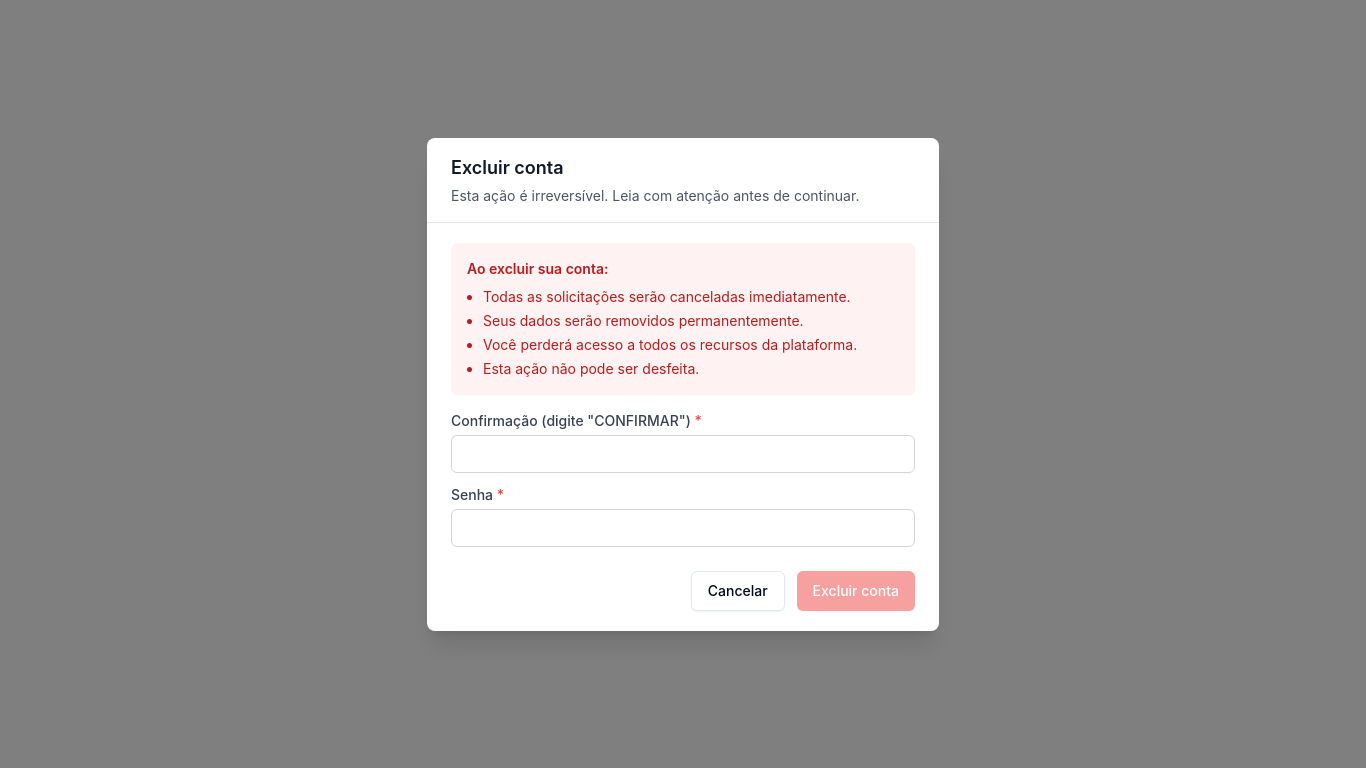
it: DeleteAccountModal › deve exibir erro quando senha não é fornecida (conta não OAuth)
This screenshot has width=1366, height=768.
Type "CONFIRMAR" into the field labelled "Confirmação (digite \"CONFIRMAR\") *" at (683, 454), box [451,434,915,472]
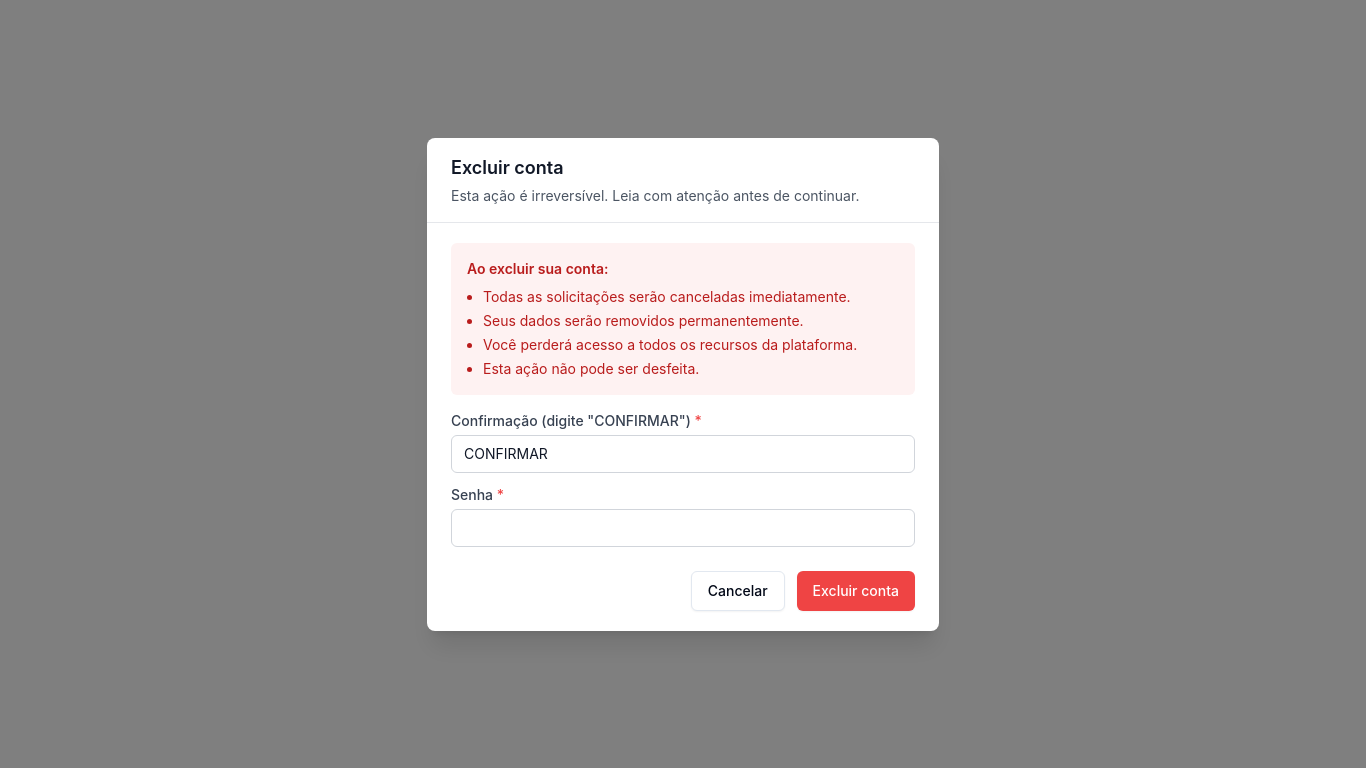
Submit the form named "Confirmação", box [427,222,939,630]
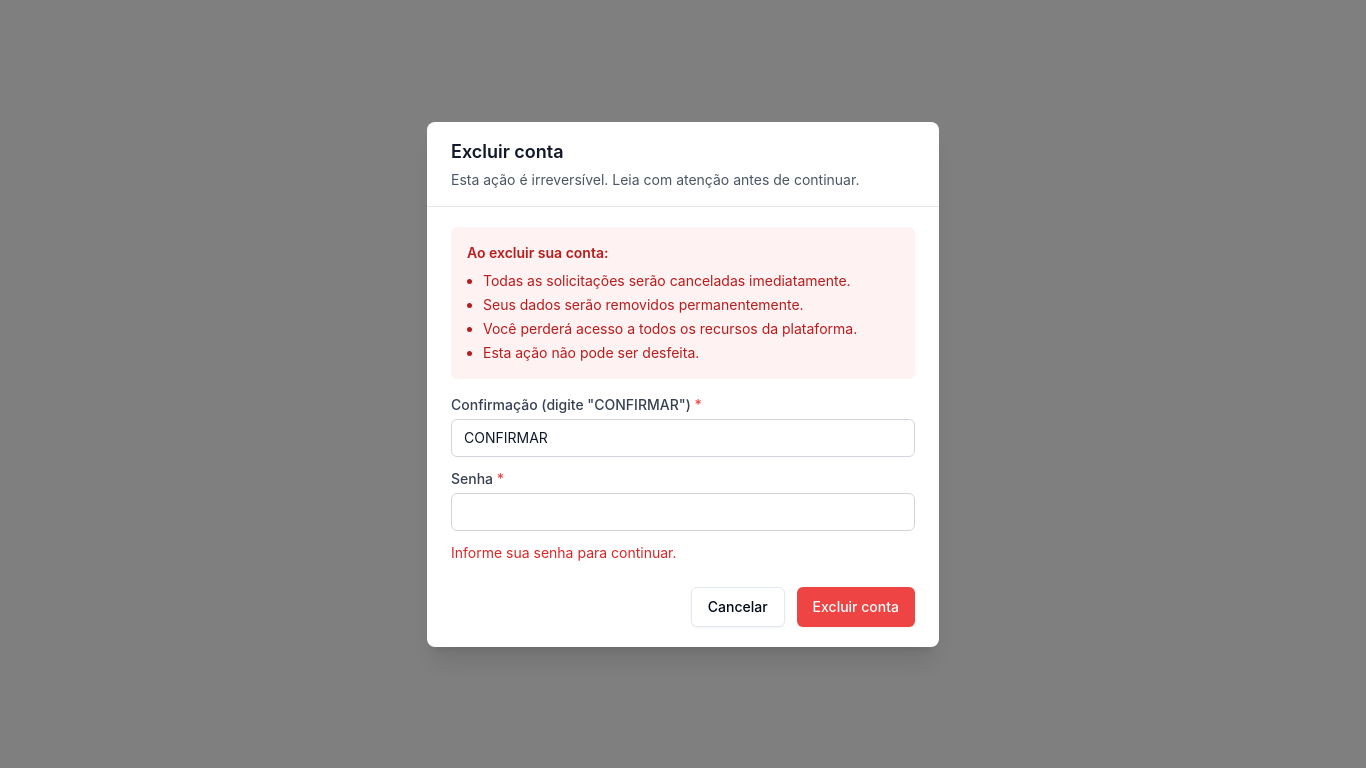
expect the text "Informe sua senha para continuar." is shown: met, box [451,544,676,560]
